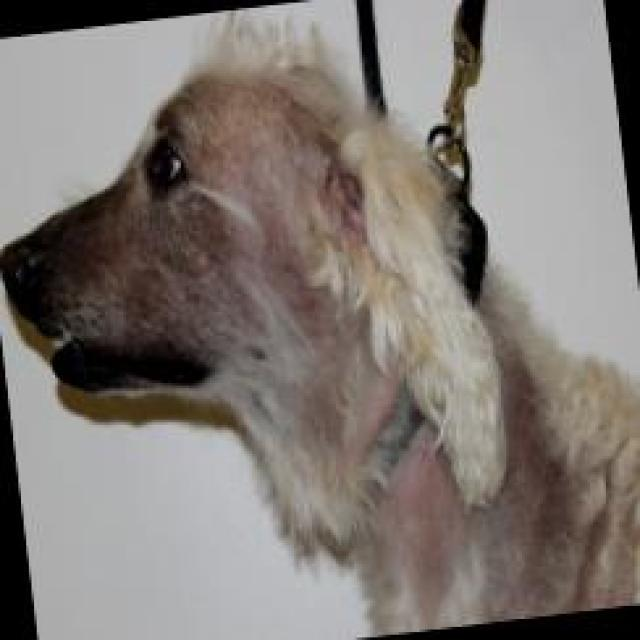fungal infection: (346, 356, 529, 626), (230, 115, 398, 332)
